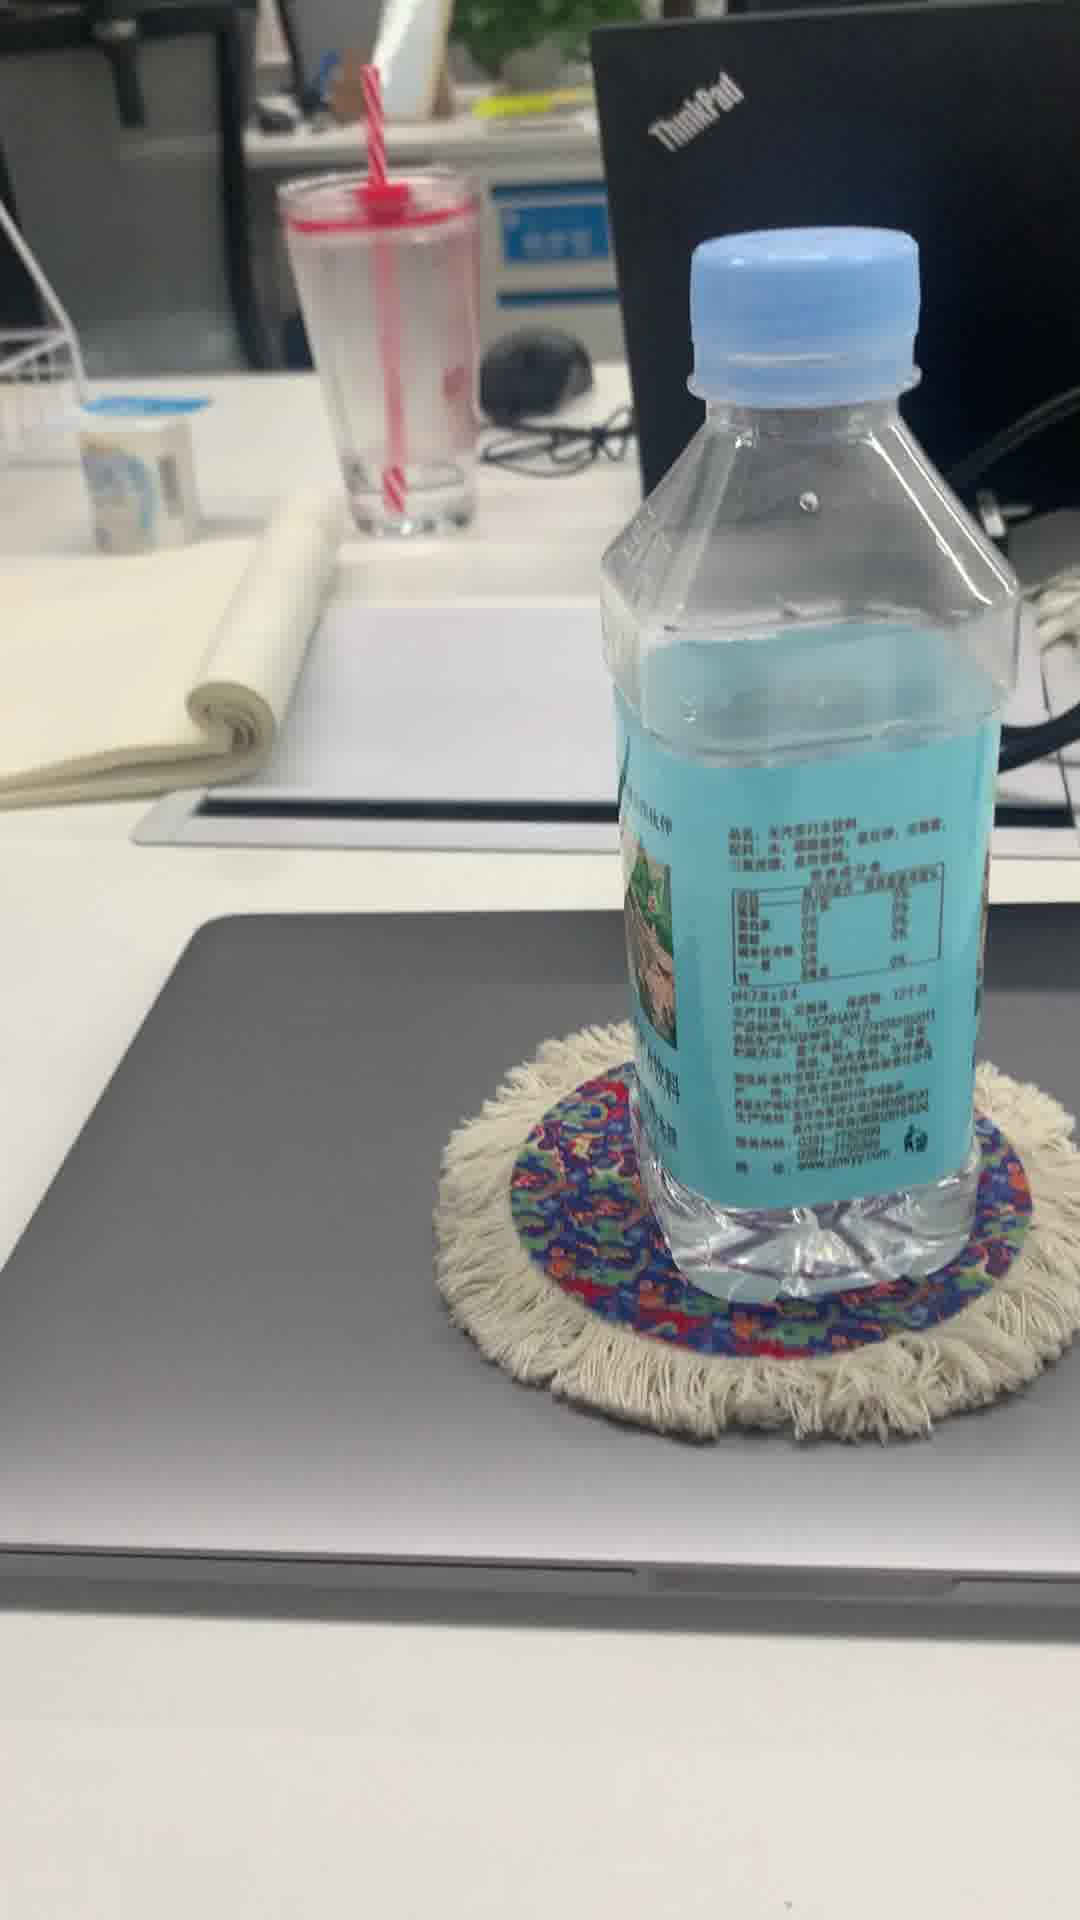水瓶: (604, 216, 1015, 1307)
